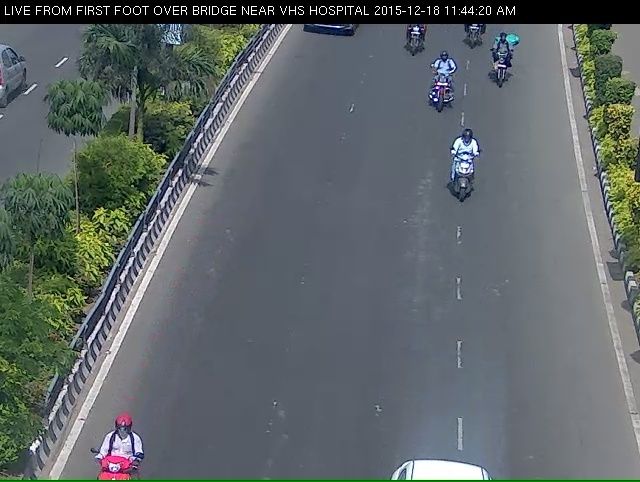Person: (446, 142, 485, 225), (422, 65, 457, 126), (399, 19, 428, 68), (491, 37, 513, 91)
